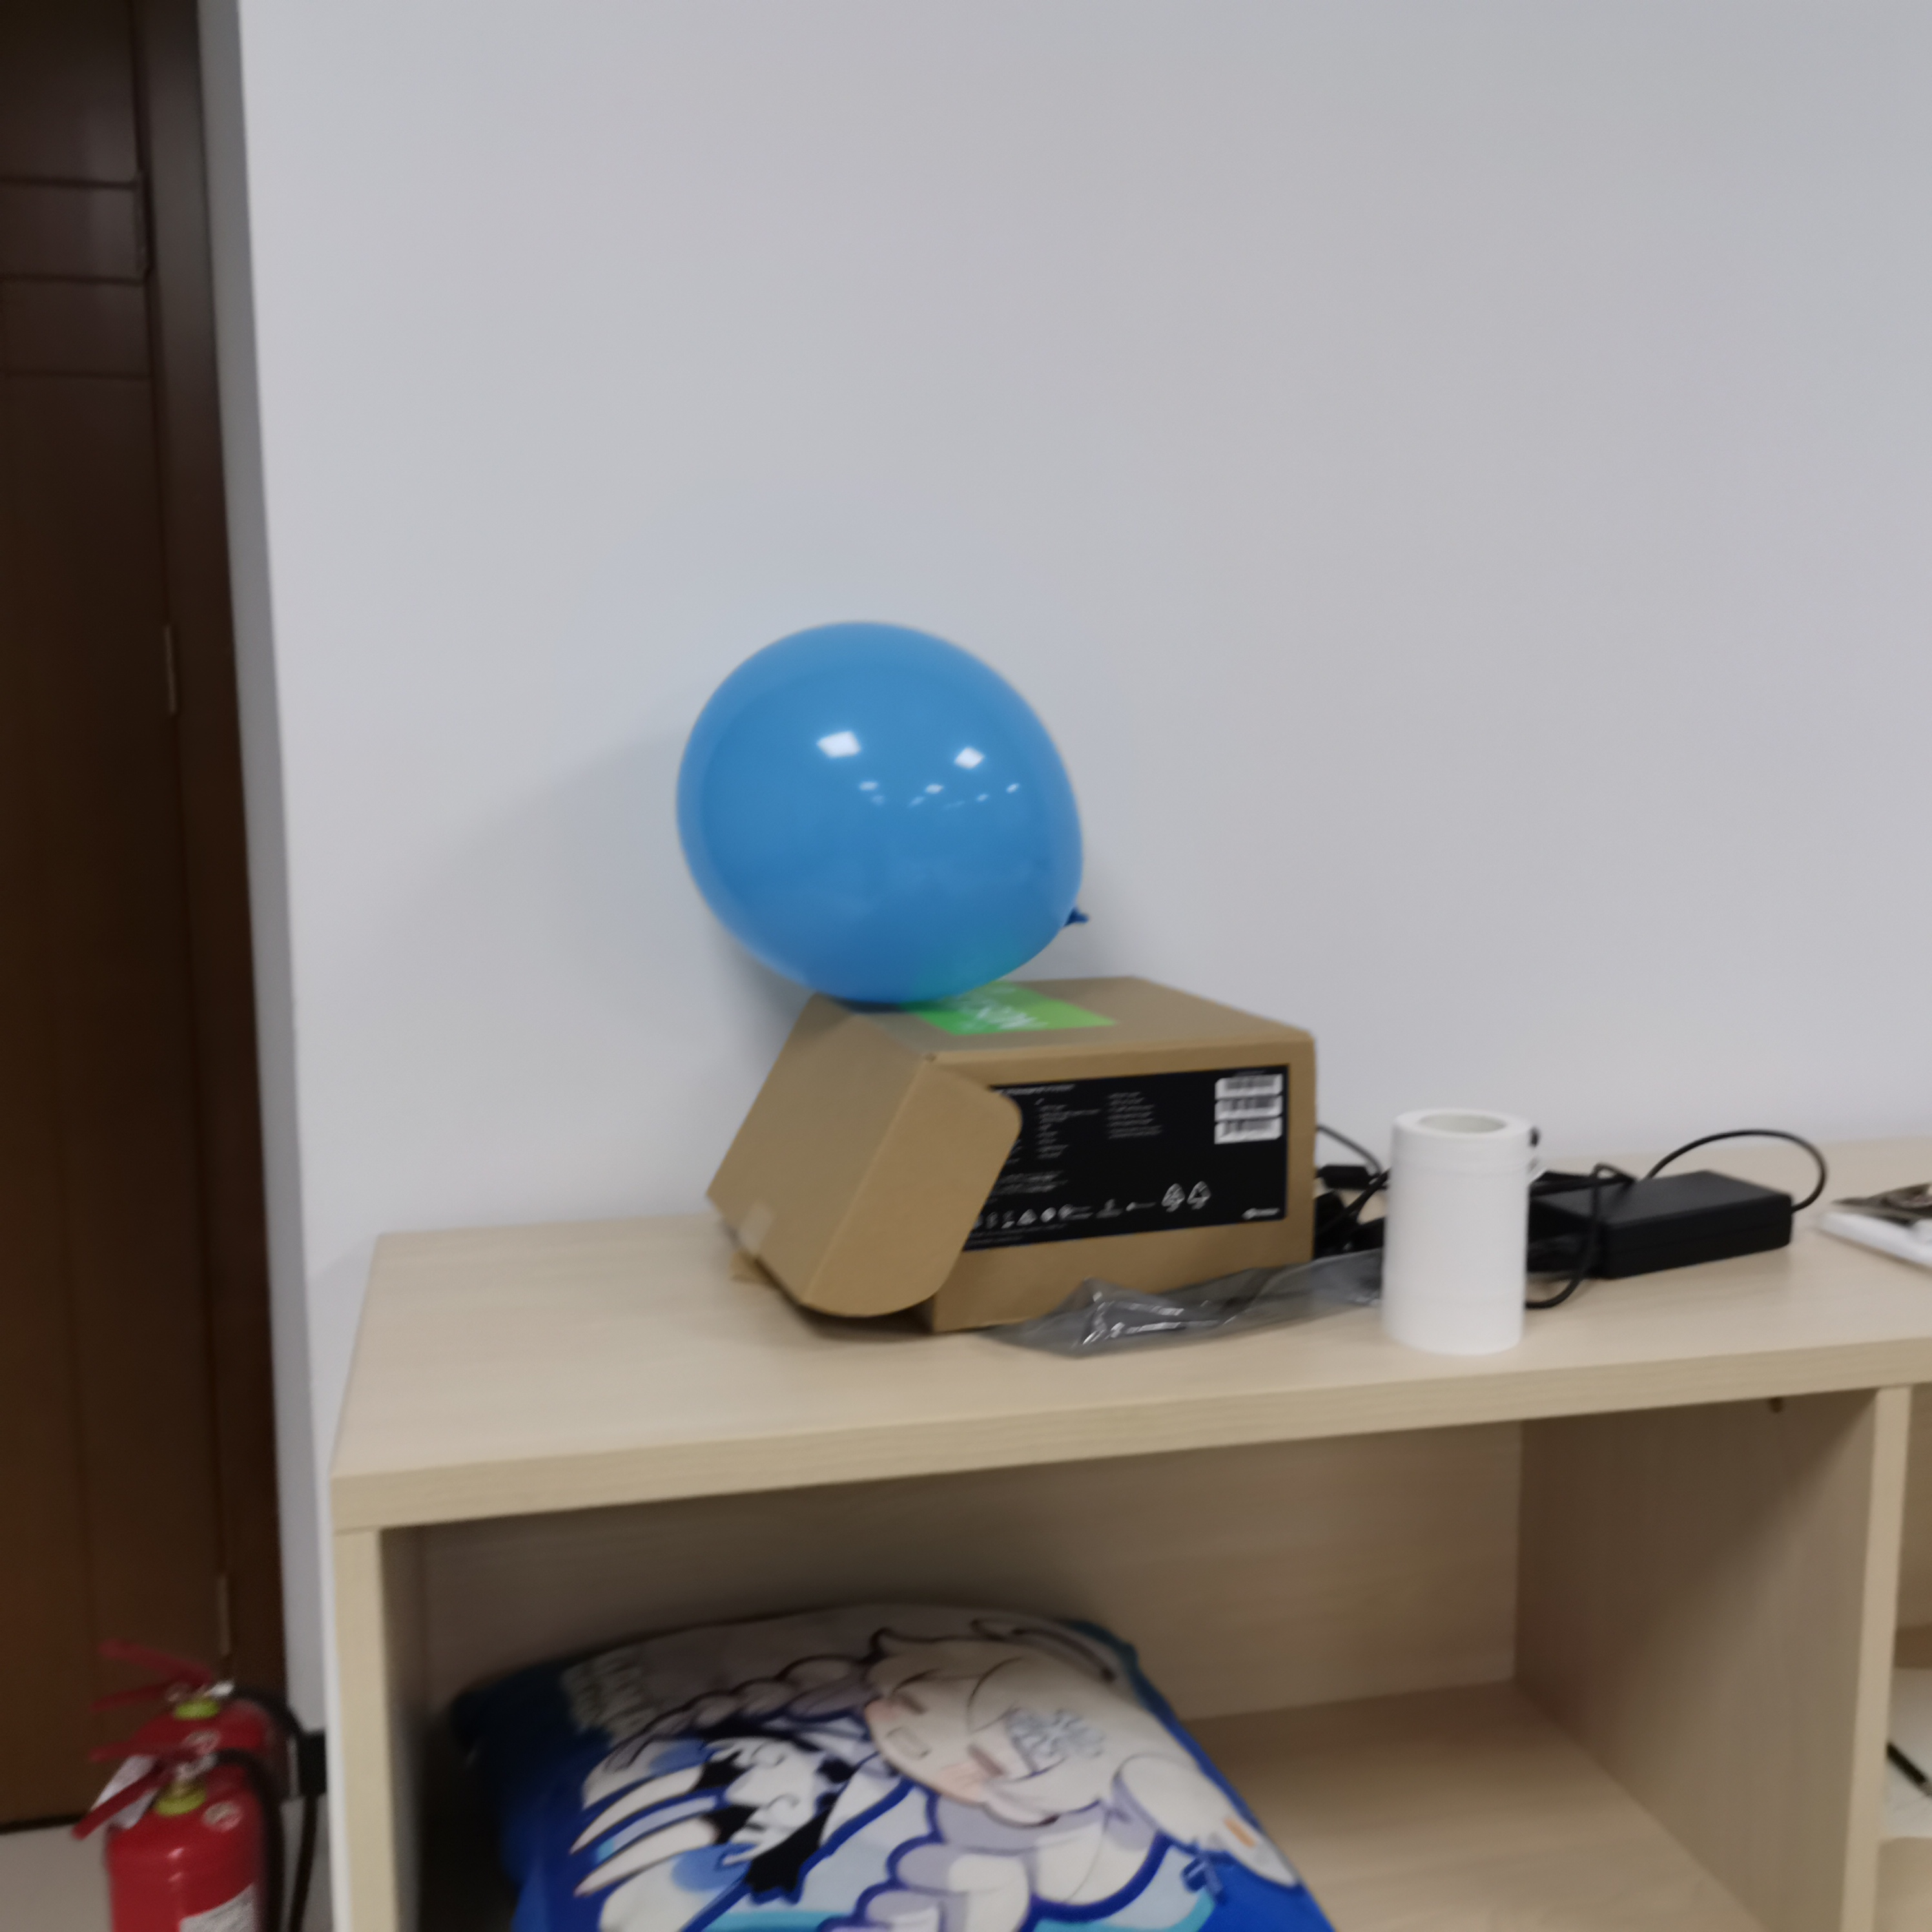balloon: (674, 623, 1097, 1008)
